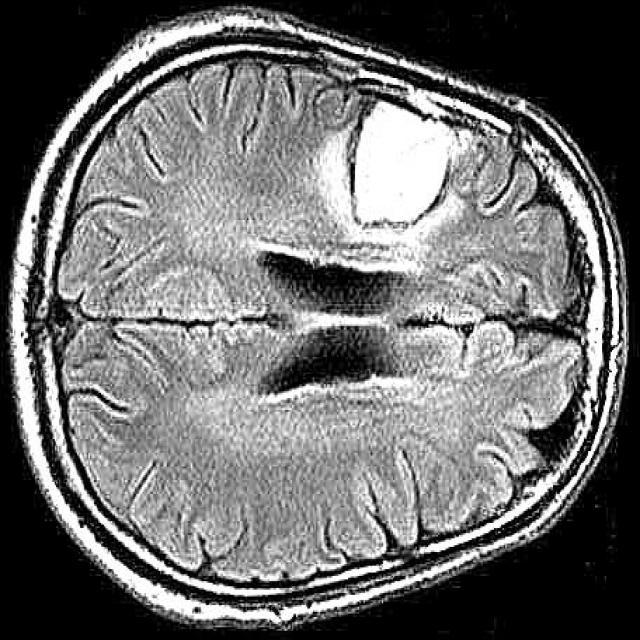tumor: (341, 92, 452, 234)
